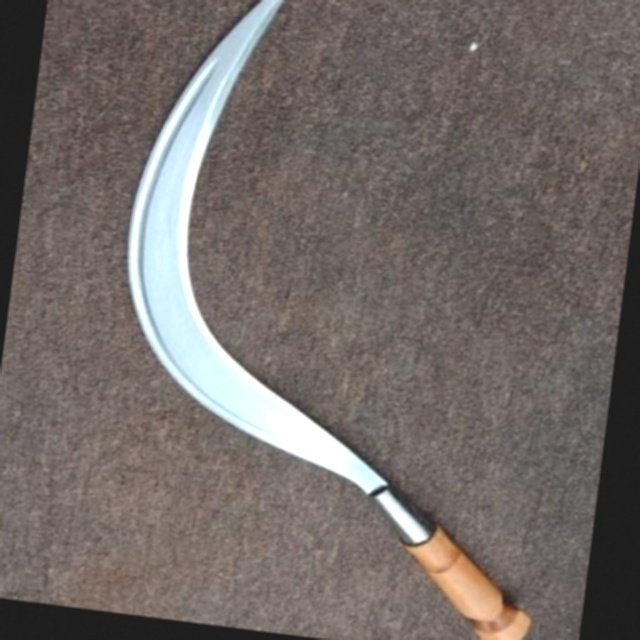Sharp-Object: (66, 0, 632, 640)
